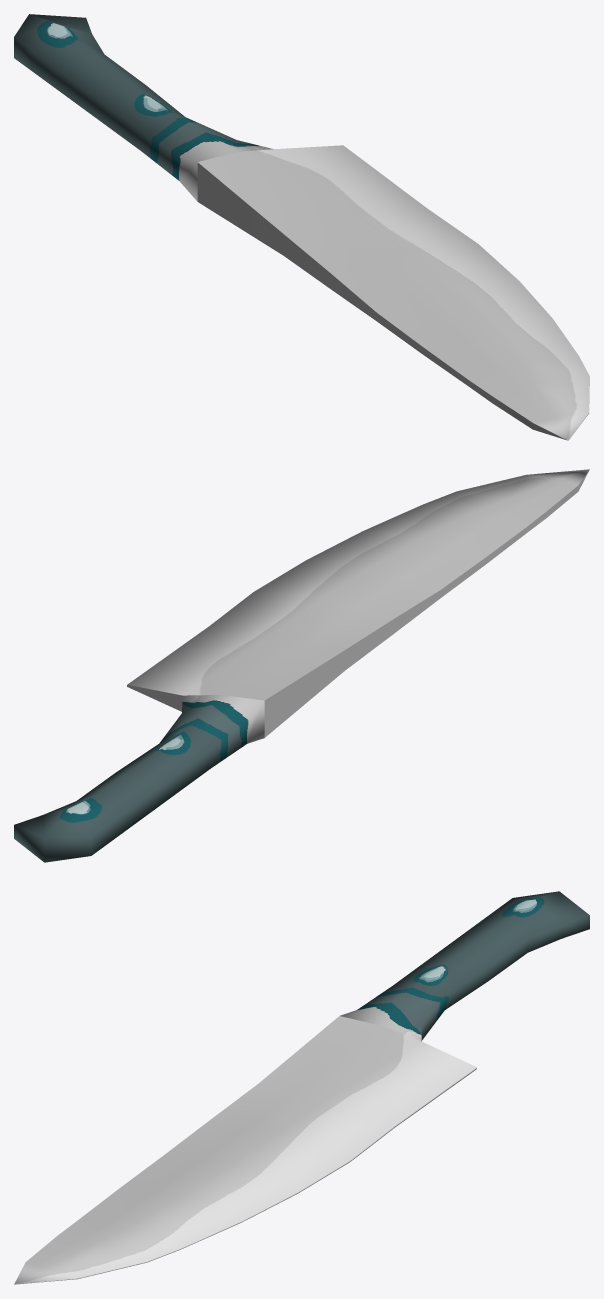
The model's file is chopping-knife.FBX.
3 renders of one model, top to bottom at view 1: azimuth 30°, elevation 25°; view 2: azimuth 150°, elevation 25°; view 3: azimuth 330°, elevation 25°, orthographic. The views are drawn at different scales.
Parts seen in each view (by area): view 1: Chopping Knife; view 2: Chopping Knife; view 3: Chopping Knife.
Boxes of the visible parts, x1=… form: Chopping Knife: x1=14, y1=14, x2=589, y2=440; Chopping Knife: x1=14, y1=469, x2=589, y2=862; Chopping Knife: x1=14, y1=891, x2=589, y2=1284.
Size of the model in its own units: 20.71 by 6.67 by 133.
